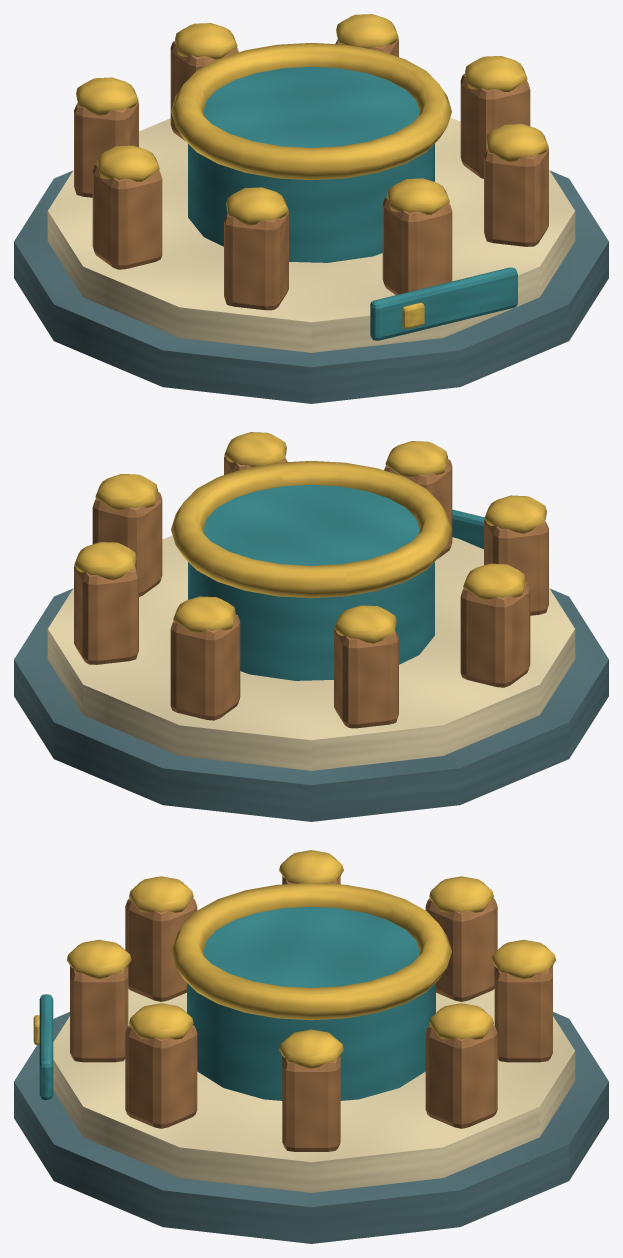
Rendered from monument-stage-1.glb.
The picture shows the model from 3 angles, top to bottom: view 1: azimuth 30°, elevation 25°; view 2: azimuth 150°, elevation 25°; view 3: azimuth 270°, elevation 25°; orthographic projection.
Visible parts, largest first — view 1: monument-stage-1-mesh; view 2: monument-stage-1-mesh; view 3: monument-stage-1-mesh.
Part boxes in pixels (left/top/right/bottom): monument-stage-1-mesh: left=14, top=14, right=608, bottom=403; monument-stage-1-mesh: left=14, top=432, right=608, bottom=821; monument-stage-1-mesh: left=14, top=850, right=608, bottom=1243.
Bounding box in the file's own units: 4.4 × 1.46 × 4.4.
Materials: 1 (1 with a texture image).
